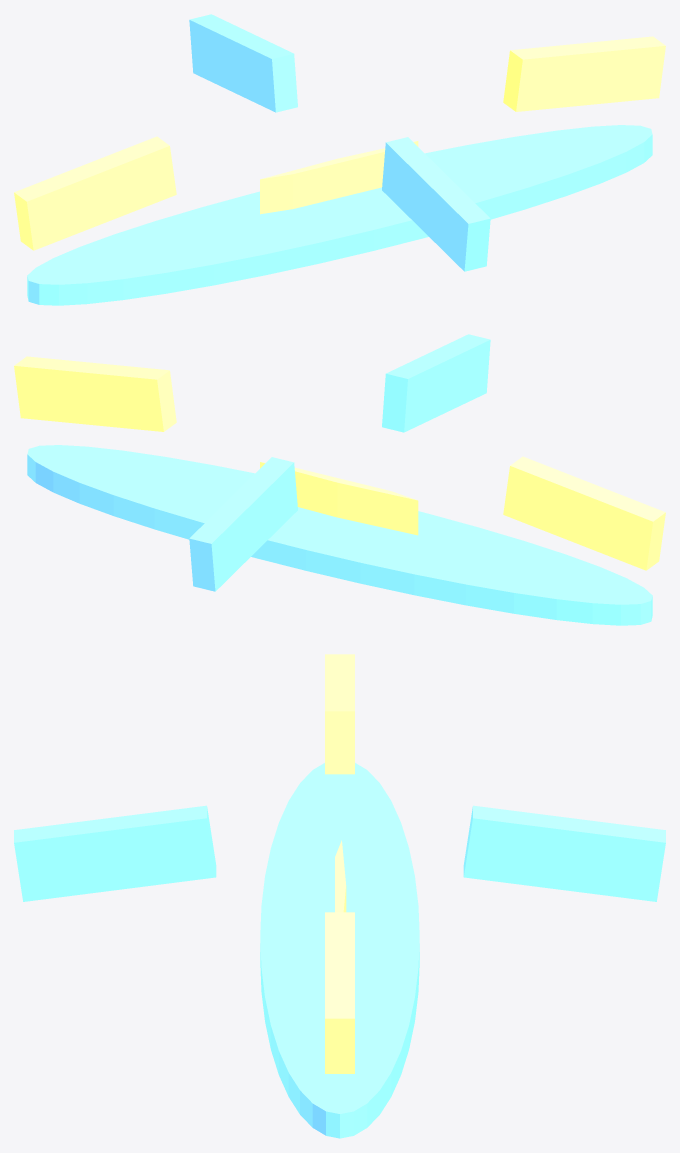
File: hit_bone_lock.glb
3 views of the same model, one above another, from view 1: azimuth 30°, elevation 25°; view 2: azimuth 150°, elevation 25°; view 3: azimuth 270°, elevation 25° (orthographic). The views are drawn at different scales.
Parts seen in each view (by area): view 1: hit bone lock targeting ring, hit bone lock bracket 2, hit bone lock bracket 0, hit bone lock bracket 3, hit bone lock bracket 1, hit bone lock inner pin; view 2: hit bone lock targeting ring, hit bone lock bracket 2, hit bone lock bracket 0, hit bone lock bracket 1, hit bone lock bracket 3, hit bone lock inner pin; view 3: hit bone lock targeting ring, hit bone lock bracket 1, hit bone lock bracket 3, hit bone lock bracket 0, hit bone lock bracket 2, hit bone lock inner pin.
Part boxes in pixels (x1,y1,x2,y2): hit bone lock targeting ring: (27,125,652,305); hit bone lock bracket 2: (14,136,176,250); hit bone lock bracket 0: (503,36,665,111); hit bone lock bracket 3: (382,137,490,271); hit bone lock bracket 1: (189,14,297,112); hit bone lock inner pin: (260,141,418,214); hit bone lock targeting ring: (27,445,652,625); hit bone lock bracket 2: (503,456,665,570); hit bone lock bracket 0: (14,356,176,431); hit bone lock bracket 1: (189,457,297,591); hit bone lock bracket 3: (382,334,490,432); hit bone lock inner pin: (260,462,418,535); hit bone lock targeting ring: (260,763,419,1138); hit bone lock bracket 1: (463,805,665,901); hit bone lock bracket 3: (14,805,216,901); hit bone lock bracket 0: (325,912,354,1073); hit bone lock bracket 2: (325,654,354,774); hit bone lock inner pin: (335,840,346,912).
Bounding box in the file's own units: 0.5749 × 0.1098 × 0.4349.
